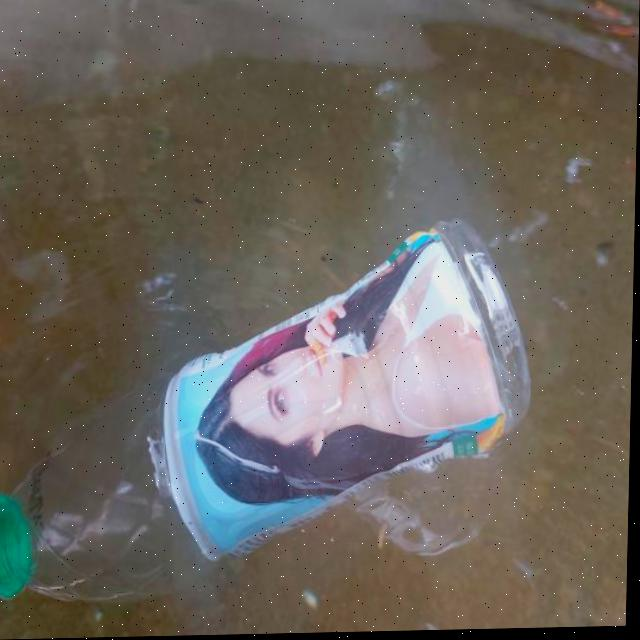paper: (0, 210, 545, 622)
